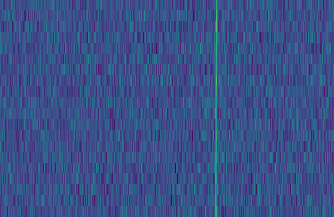signal: (211, 0, 221, 217)
